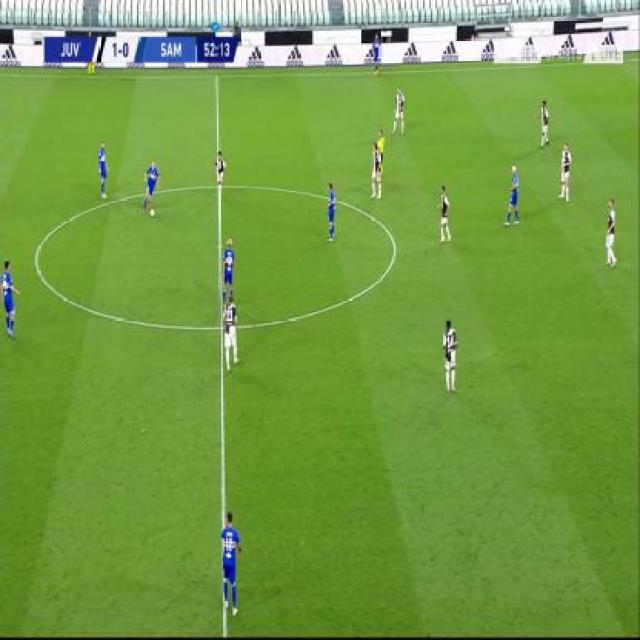ball: (150, 206, 156, 217)
player: (219, 507, 244, 618), (0, 256, 20, 339), (440, 315, 460, 394), (222, 294, 239, 373), (603, 194, 620, 268), (503, 162, 522, 228), (142, 157, 161, 216), (436, 183, 453, 243), (222, 235, 236, 306), (558, 139, 574, 201), (324, 179, 338, 242), (97, 137, 110, 199), (370, 137, 383, 199), (392, 85, 406, 136), (537, 98, 551, 147), (214, 150, 227, 193), (371, 33, 384, 75), (376, 127, 387, 175)
